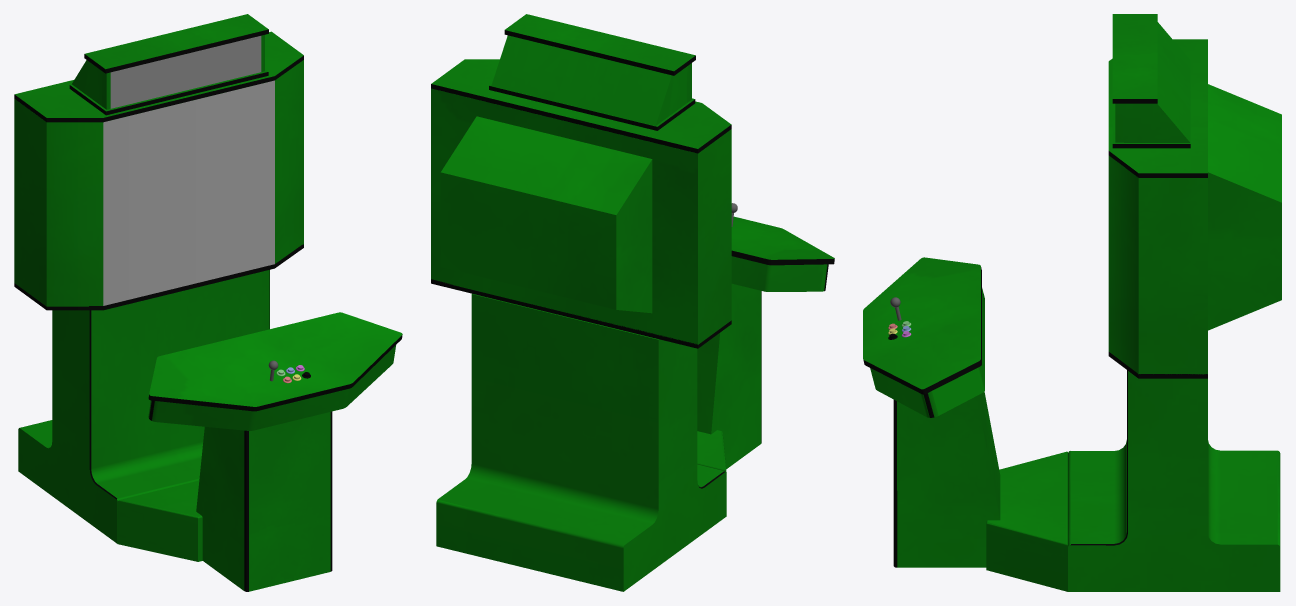
File: CastleNovaMachine04.fbx
The picture shows the model from 3 angles, left to right: view 1: azimuth 30°, elevation 25°; view 2: azimuth 150°, elevation 25°; view 3: azimuth 270°, elevation 25°; orthographic projection. The views are drawn at different scales.
Visible parts, largest first — view 1: CastleNova; view 2: CastleNova; view 3: CastleNova.
Part boxes in pixels (x1,y1,x2,y2): CastleNova: (14, 14, 402, 591); CastleNova: (431, 14, 834, 591); CastleNova: (863, 14, 1281, 591).
Size of the model in its own units: 177 by 300 by 233.
10 materials, 1 textured.
